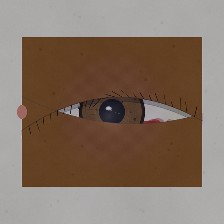hemorrhage_spot: (97, 92, 192, 167)
